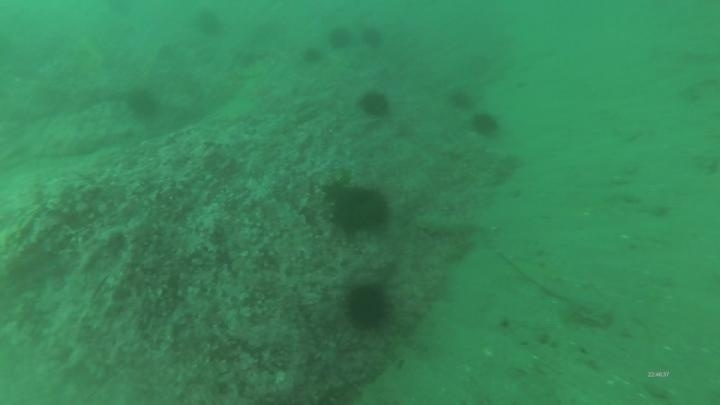echinus: (328, 183, 392, 236), (342, 281, 392, 333), (124, 86, 162, 121), (357, 89, 393, 120), (192, 7, 226, 39), (469, 110, 502, 139), (446, 86, 476, 112), (326, 25, 354, 52), (360, 24, 386, 51), (299, 44, 325, 67)
holothurian: (414, 208, 482, 243)
